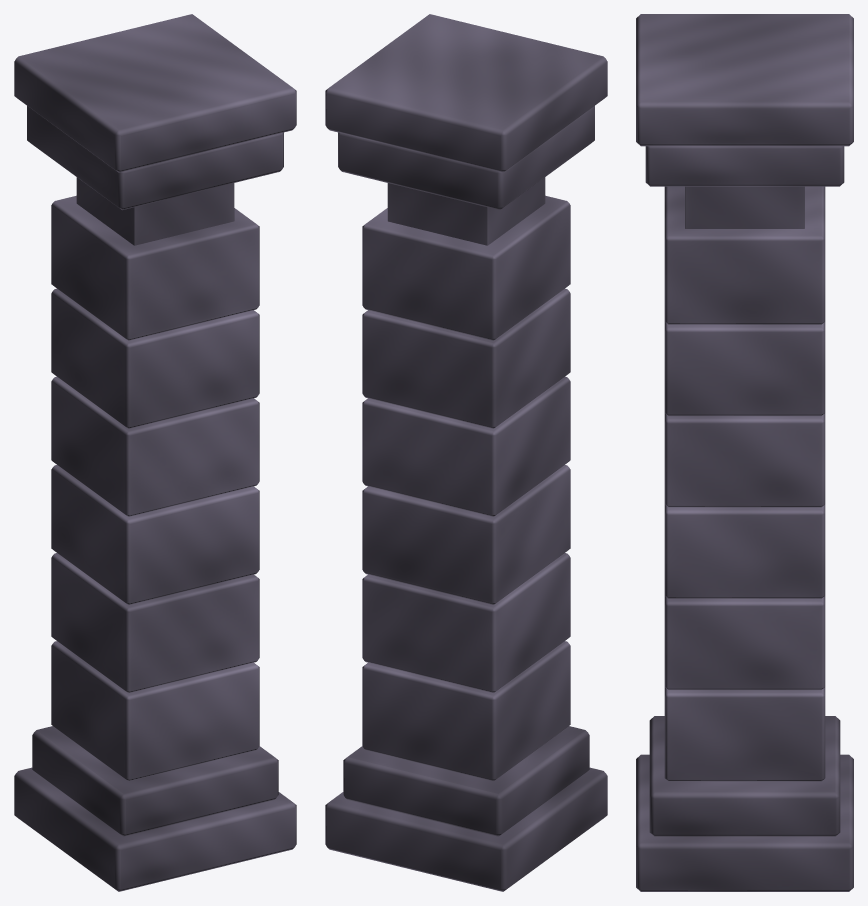
Rendered from Furn_Dun_Pillar.fbx.
The picture shows the model from 3 angles, left to right: view 1: azimuth 30°, elevation 25°; view 2: azimuth 150°, elevation 25°; view 3: azimuth 270°, elevation 25°; orthographic projection. The views are drawn at different scales.
Visible parts, largest first — view 1: Furn_Dun_Pillar; view 2: Furn_Dun_Pillar; view 3: Furn_Dun_Pillar.
Boxes of the visible parts, x1,y1,x2,y2 form: Furn_Dun_Pillar: (14,14,296,891); Furn_Dun_Pillar: (325,14,607,891); Furn_Dun_Pillar: (636,14,853,891).
Bounding box in the file's own units: 0.8 × 3.2 × 0.8.
Materials: 1 (1 with a texture image).
